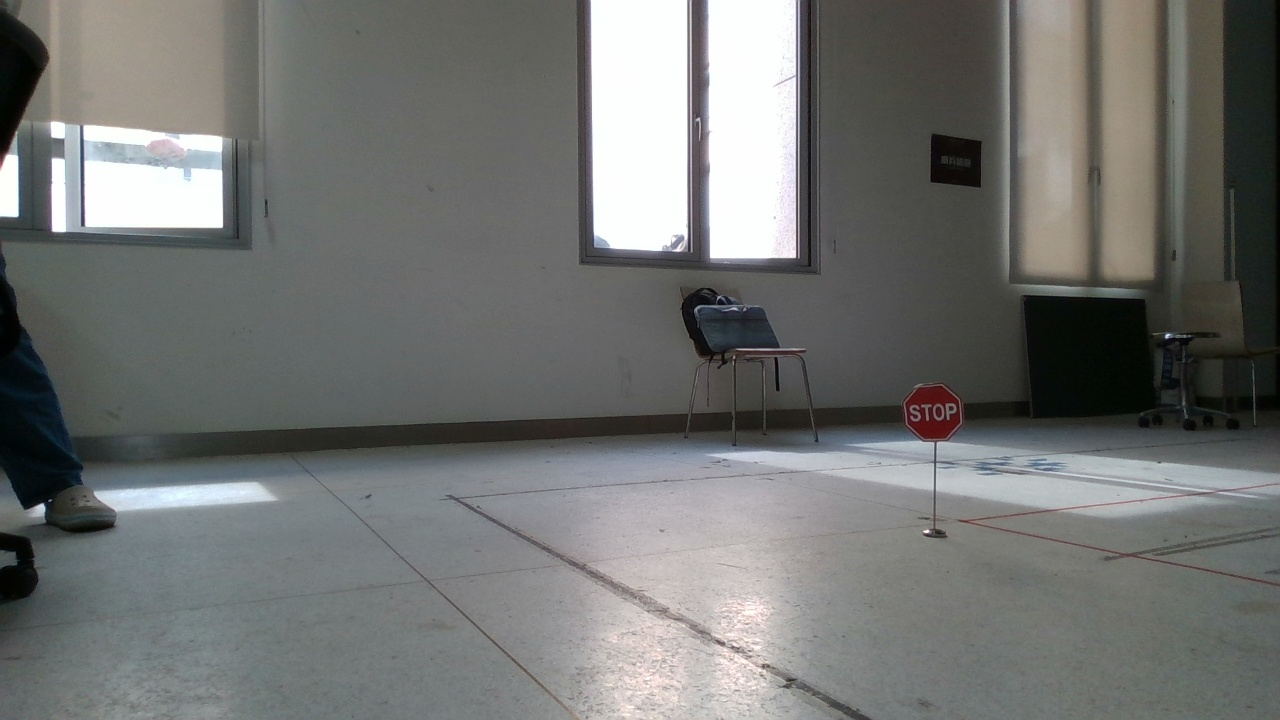stop_sign: (899, 362, 977, 482)
